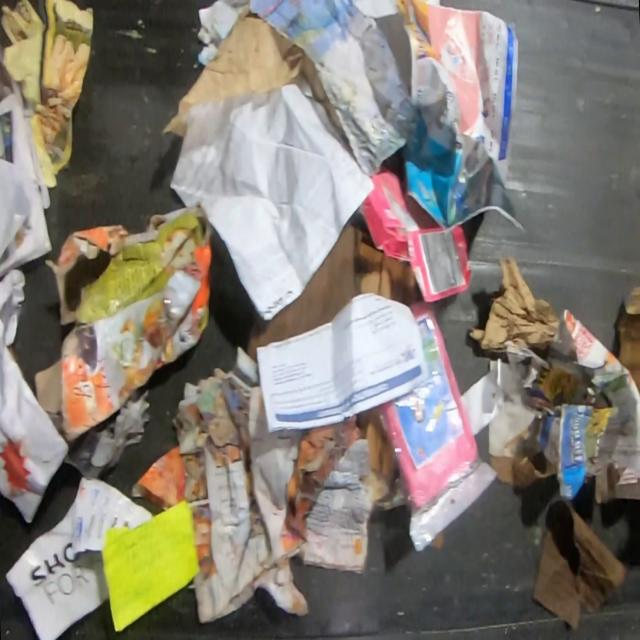cardboard: (33, 205, 214, 441), (246, 223, 424, 352), (358, 167, 471, 304), (532, 495, 624, 629), (466, 255, 558, 351), (357, 406, 396, 483), (617, 287, 640, 397)
soft_plastic: (376, 301, 498, 553)
